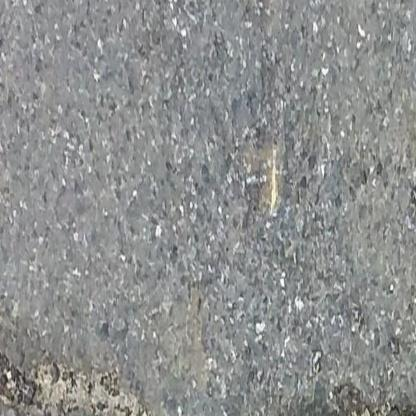Cracks: (0, 341, 176, 416), (326, 397, 416, 416)
